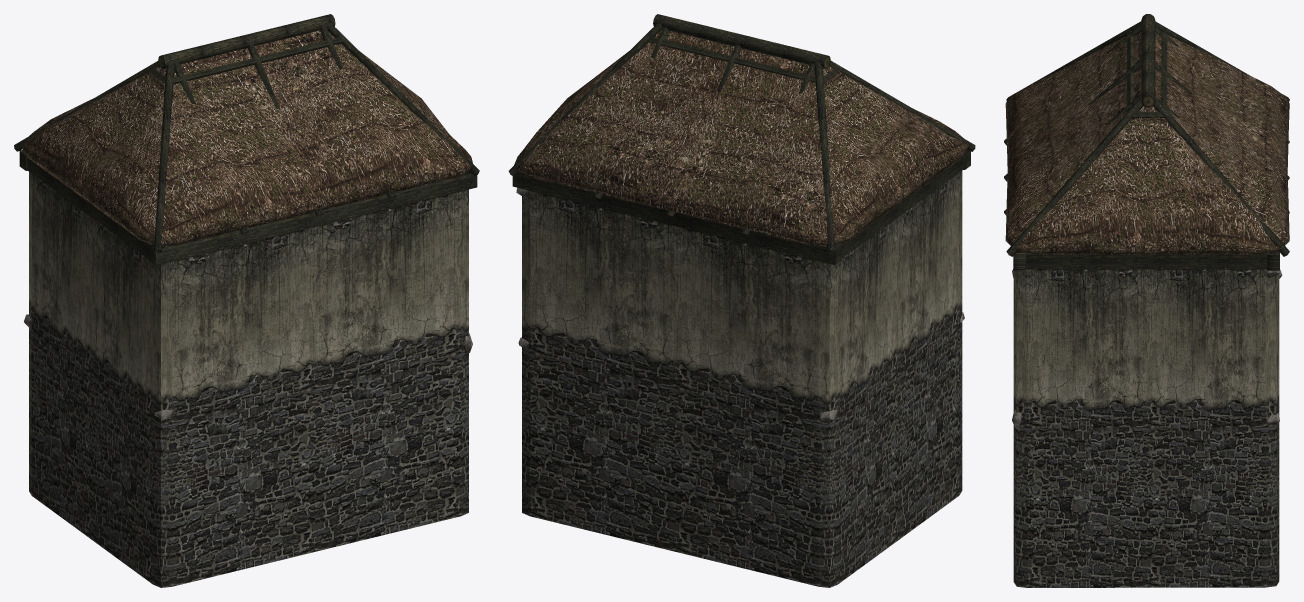
Rendered from ex_nord_house_03.obj.
The picture shows the model from 3 angles, left to right: view 1: azimuth 30°, elevation 25°; view 2: azimuth 150°, elevation 25°; view 3: azimuth 270°, elevation 25°; orthographic projection. The views are drawn at different scales.
Visible parts, largest first — view 1: nifid_21-matrix_Tri_Ex_nord_house_03_4-lib, nifid_16-matrix_Tri_Ex_nord_house_03_3-lib, nifid_31-matrix_Tri_Ex_nord_house_03_6-lib, nifid_1-matrix_Tri_Ex_nord_house_03_0-lib, nifid_6-matrix_Tri_Ex_nord_house_03_1-lib, nifid_46-matrix_Tri_Ex_nord_house_03_9-lib, nifid_11-matrix_Tri_Ex_nord_house_03_2-lib, nifid_41-matrix_Tri_Ex_nord_house_03_8-lib; view 2: nifid_21-matrix_Tri_Ex_nord_house_03_4-lib, nifid_16-matrix_Tri_Ex_nord_house_03_3-lib, nifid_31-matrix_Tri_Ex_nord_house_03_6-lib, nifid_1-matrix_Tri_Ex_nord_house_03_0-lib, nifid_6-matrix_Tri_Ex_nord_house_03_1-lib, nifid_46-matrix_Tri_Ex_nord_house_03_9-lib, nifid_11-matrix_Tri_Ex_nord_house_03_2-lib, nifid_41-matrix_Tri_Ex_nord_house_03_8-lib; view 3: nifid_31-matrix_Tri_Ex_nord_house_03_6-lib, nifid_21-matrix_Tri_Ex_nord_house_03_4-lib, nifid_16-matrix_Tri_Ex_nord_house_03_3-lib, nifid_1-matrix_Tri_Ex_nord_house_03_0-lib, nifid_11-matrix_Tri_Ex_nord_house_03_2-lib, nifid_41-matrix_Tri_Ex_nord_house_03_8-lib, nifid_6-matrix_Tri_Ex_nord_house_03_1-lib, nifid_46-matrix_Tri_Ex_nord_house_03_9-lib, nifid_36-matrix_Tri_Ex_nord_house_03_7-lib.
Boxes of the visible parts, x1=… form: nifid_21-matrix_Tri_Ex_nord_house_03_4-lib: x1=32, y1=333, x2=460, y2=586; nifid_16-matrix_Tri_Ex_nord_house_03_3-lib: x1=32, y1=174, x2=460, y2=423; nifid_31-matrix_Tri_Ex_nord_house_03_6-lib: x1=21, y1=30, x2=472, y2=245; nifid_1-matrix_Tri_Ex_nord_house_03_0-lib: x1=14, y1=14, x2=479, y2=265; nifid_6-matrix_Tri_Ex_nord_house_03_1-lib: x1=153, y1=351, x2=468, y2=587; nifid_46-matrix_Tri_Ex_nord_house_03_9-lib: x1=153, y1=189, x2=468, y2=424; nifid_11-matrix_Tri_Ex_nord_house_03_2-lib: x1=29, y1=328, x2=172, y2=587; nifid_41-matrix_Tri_Ex_nord_house_03_8-lib: x1=29, y1=172, x2=172, y2=424; nifid_21-matrix_Tri_Ex_nord_house_03_4-lib: x1=530, y1=332, x2=959, y2=586; nifid_16-matrix_Tri_Ex_nord_house_03_3-lib: x1=530, y1=173, x2=959, y2=422; nifid_31-matrix_Tri_Ex_nord_house_03_6-lib: x1=514, y1=30, x2=968, y2=245; nifid_1-matrix_Tri_Ex_nord_house_03_0-lib: x1=509, y1=14, x2=975, y2=264; nifid_6-matrix_Tri_Ex_nord_house_03_1-lib: x1=522, y1=327, x2=962, y2=587; nifid_46-matrix_Tri_Ex_nord_house_03_9-lib: x1=522, y1=171, x2=962, y2=424; nifid_11-matrix_Tri_Ex_nord_house_03_2-lib: x1=829, y1=421, x2=837, y2=587; nifid_41-matrix_Tri_Ex_nord_house_03_8-lib: x1=829, y1=263, x2=837, y2=423; nifid_31-matrix_Tri_Ex_nord_house_03_6-lib: x1=1005, y1=32, x2=1289, y2=254; nifid_21-matrix_Tri_Ex_nord_house_03_4-lib: x1=1027, y1=427, x2=1265, y2=587; nifid_16-matrix_Tri_Ex_nord_house_03_3-lib: x1=1027, y1=269, x2=1265, y2=427; nifid_1-matrix_Tri_Ex_nord_house_03_0-lib: x1=1004, y1=14, x2=1289, y2=270; nifid_11-matrix_Tri_Ex_nord_house_03_2-lib: x1=1016, y1=426, x2=1276, y2=587; nifid_41-matrix_Tri_Ex_nord_house_03_8-lib: x1=1016, y1=269, x2=1276, y2=427; nifid_6-matrix_Tri_Ex_nord_house_03_1-lib: x1=1013, y1=422, x2=1279, y2=585; nifid_46-matrix_Tri_Ex_nord_house_03_9-lib: x1=1013, y1=270, x2=1279, y2=425; nifid_36-matrix_Tri_Ex_nord_house_03_7-lib: x1=1012, y1=269, x2=1282, y2=431.
Size of the model in its own units: 13.83 by 18.56 by 10.51.
